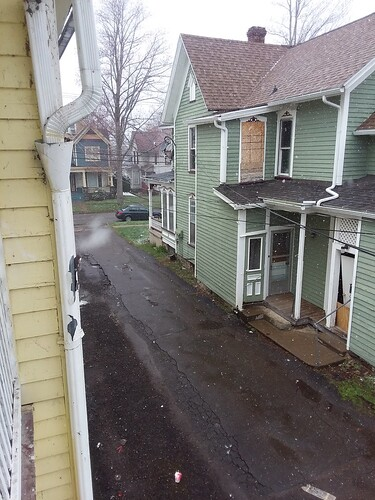building: (155, 1, 375, 360)
car: (109, 201, 166, 226)
street: (68, 225, 375, 500)
tree: (68, 1, 184, 200)
